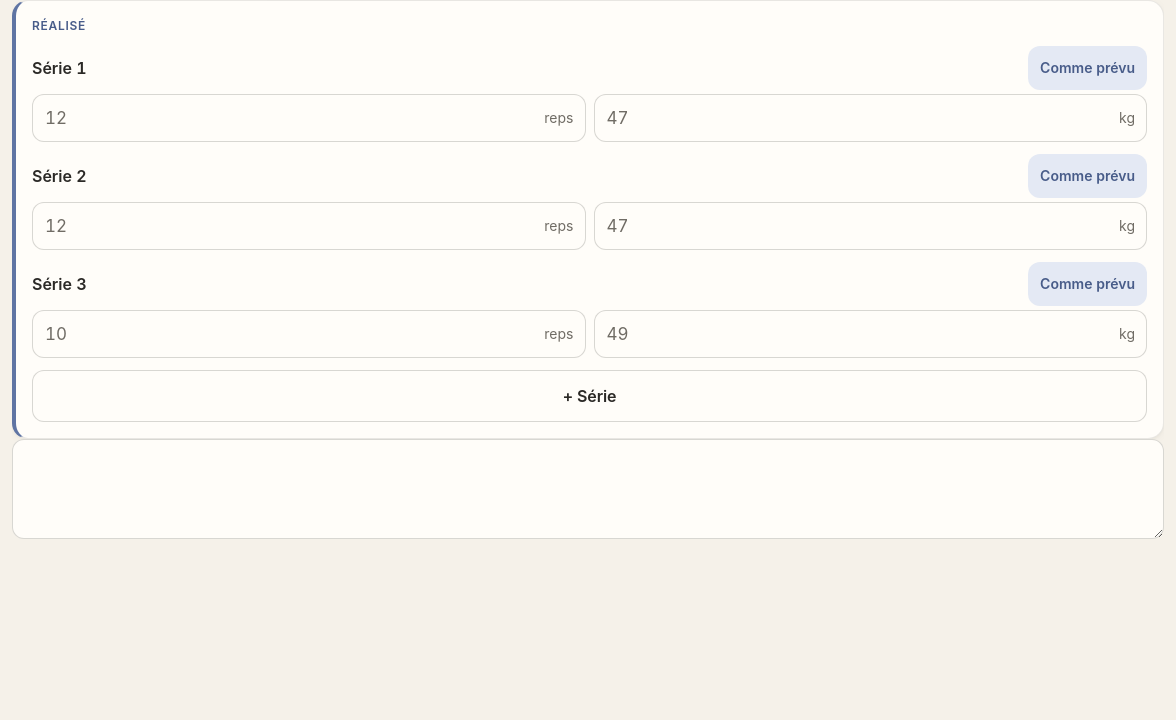
Test case: Garde-fous inchangés › valide (validée au blur) puis invalide : la valeur validée reste, l’invalide n’est jamais écrite
Type "47,5" into the field named "Série 1 — charge en kg". click: (870, 118)
box: [594, 94, 1147, 142]
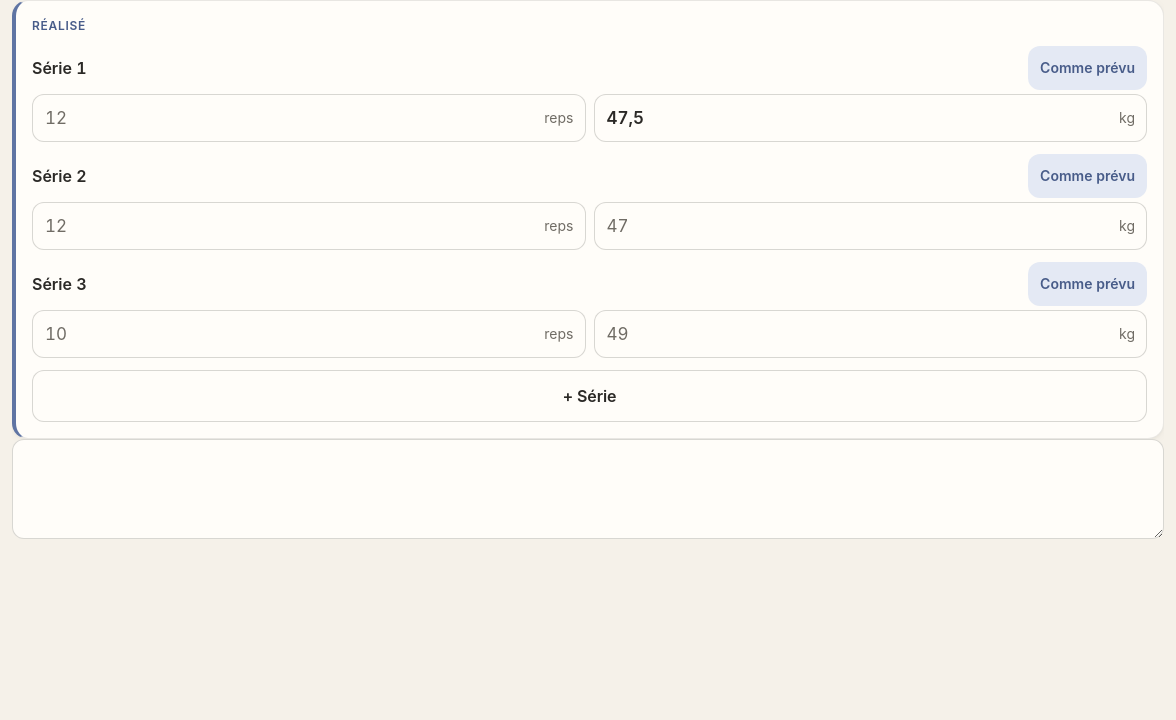
Replace the text in the field named "Série 1 — charge en kg" with "47,55". click: (870, 118)
box: [594, 94, 1147, 142]
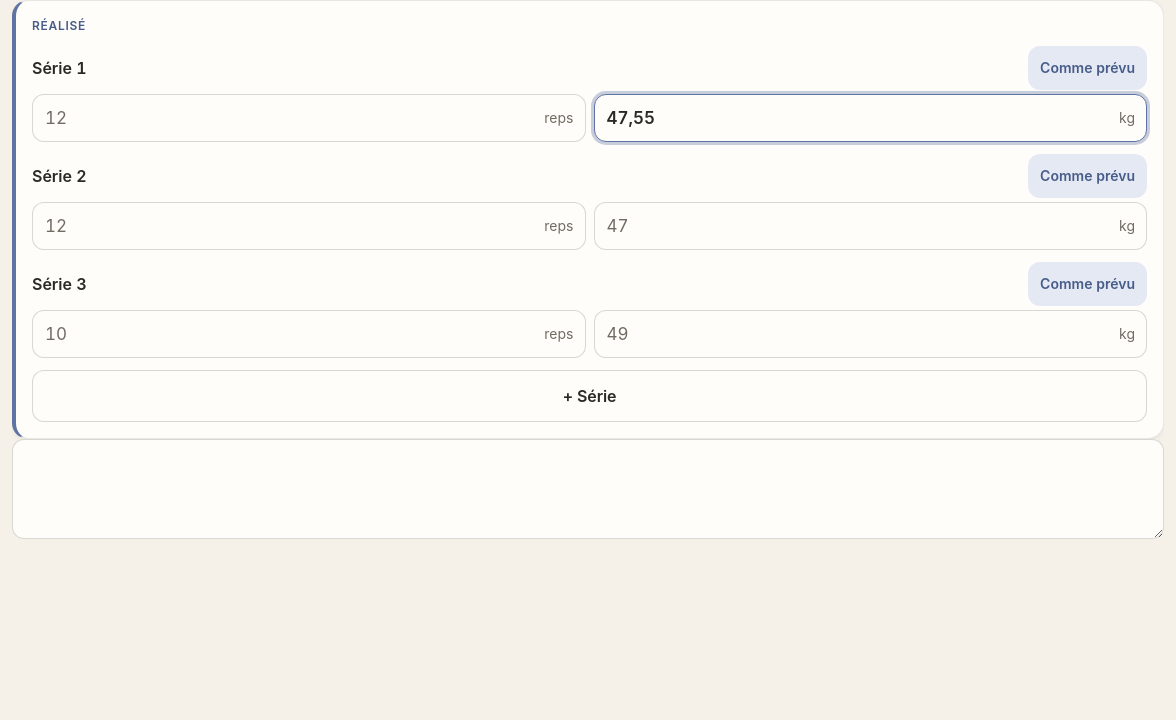
Replace the text in the field named "Série 1 — charge en kg" with "47,555". click: (870, 118)
box: [594, 94, 1147, 142]
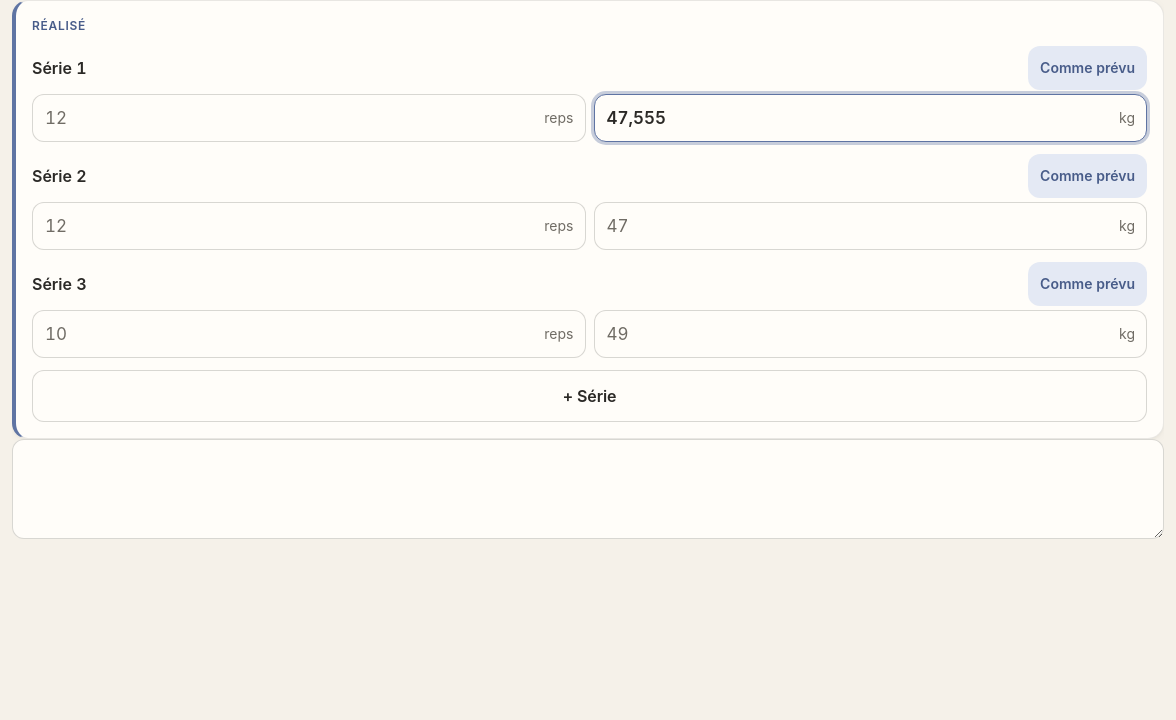
Leave the field named "Série 1 — charge en kg", box [594, 94, 1147, 142]
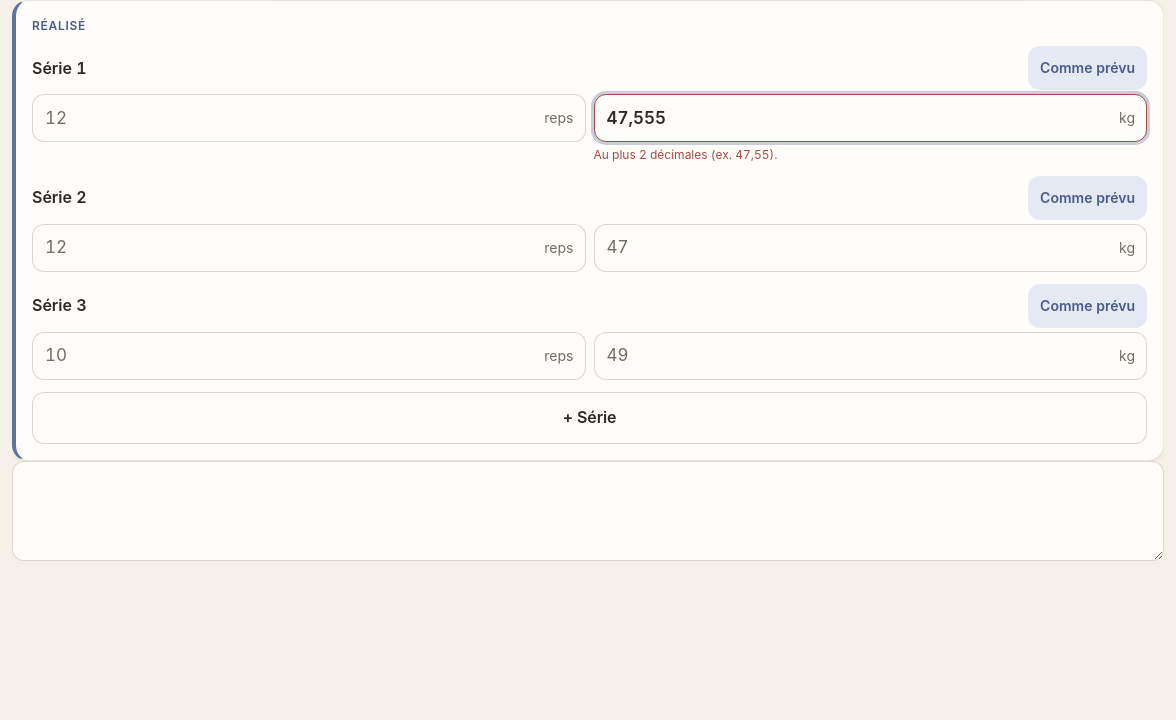
Check: the message shows "Au plus 2 décimales", box [594, 147, 778, 162]
